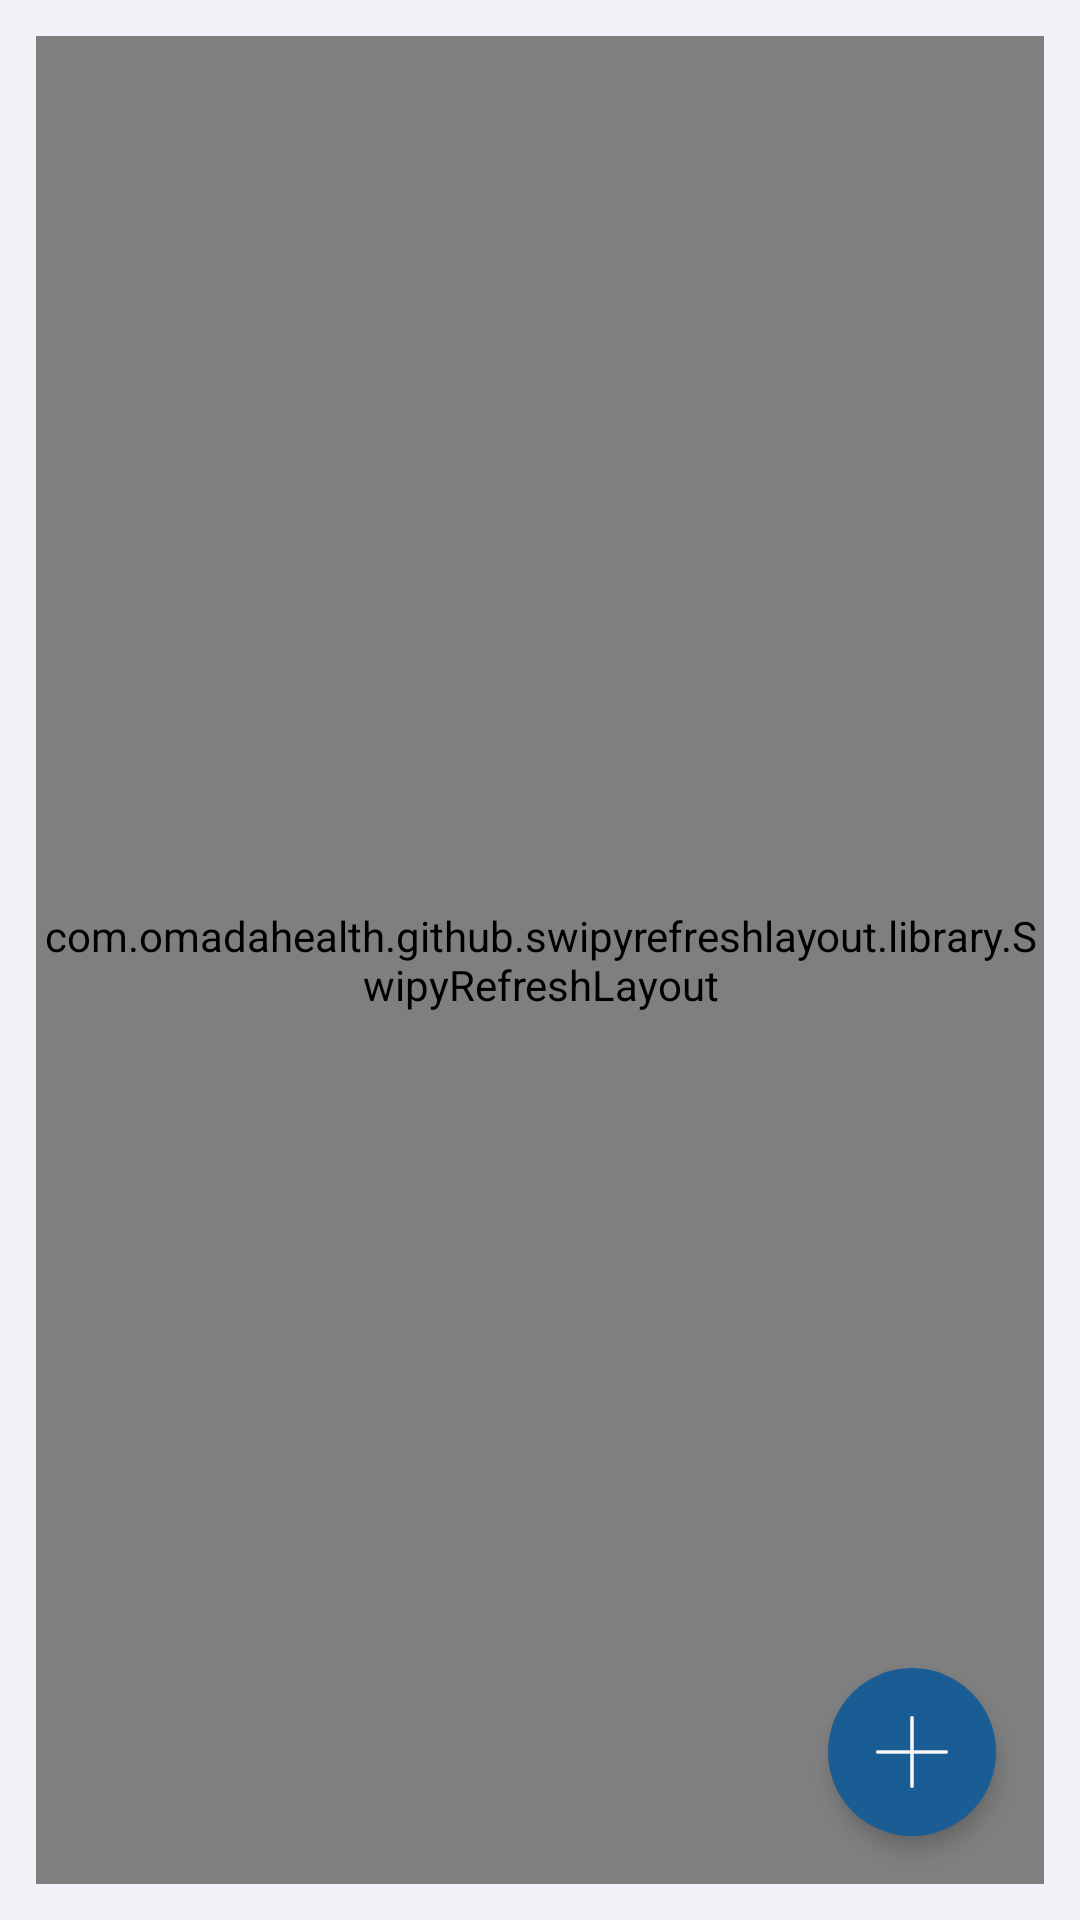

Icons on this 1080×1920 Android screen, each with its box as (x1, y1, x2, y2):
add plus: (828, 1668, 996, 1836)
